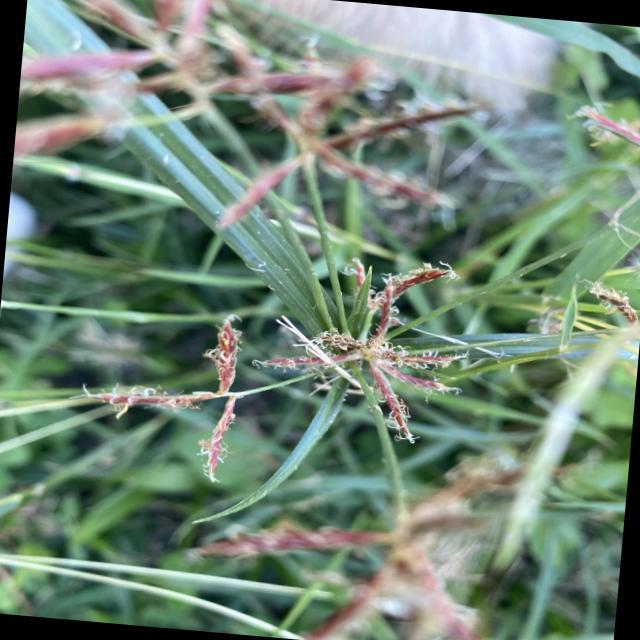cyperus: (12, 0, 497, 239), (77, 219, 466, 476), (189, 420, 558, 640)
